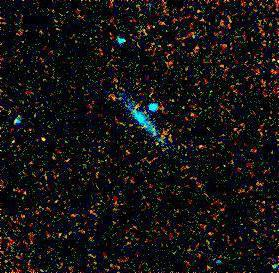star: (27, 124, 57, 154)
